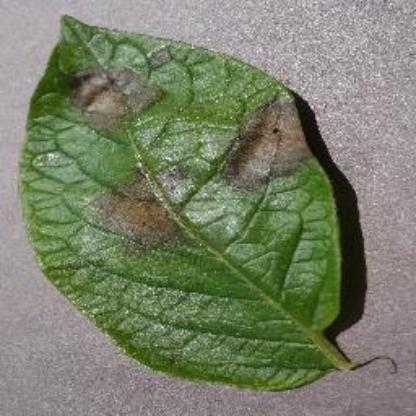Late-Blight: (21, 9, 390, 392)
